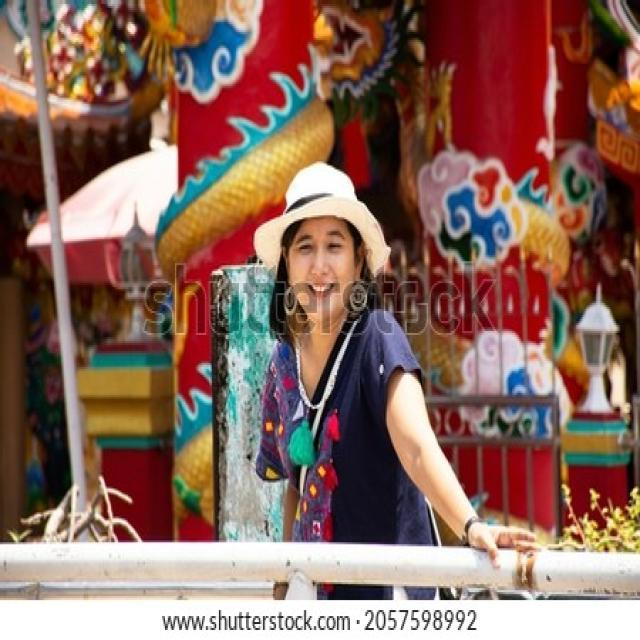hat: (255, 167, 390, 325)
